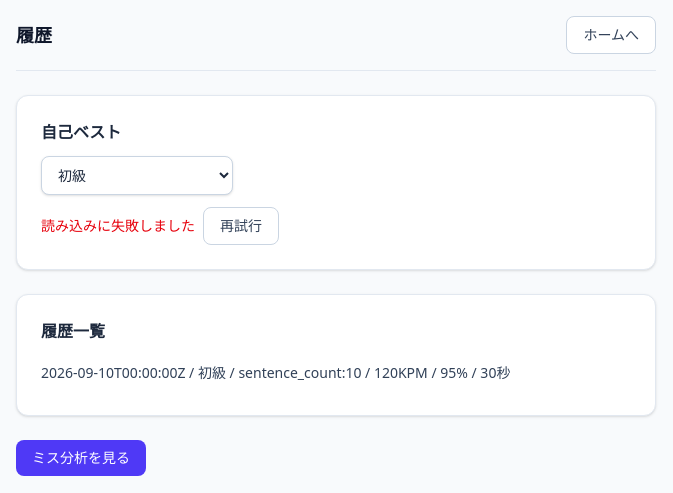
Test: HistoryView › 自己ベスト取得が失敗しても<select>は表示されたままで、再試行できる(REV-014 B2)
Expected: the dropdown is shown, [41,156,233,195]
Click the button "再試行".
click(241, 226)  # box [203,207,279,245]
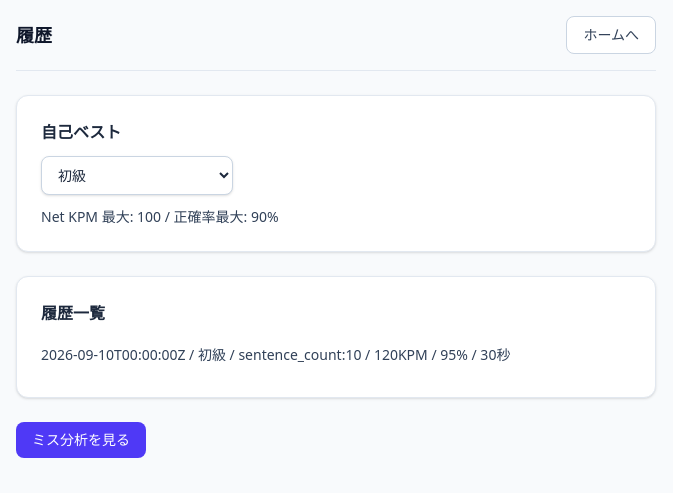
Now the text "Net KPM 最大: 100" is shown, box [41,207,279,226]
